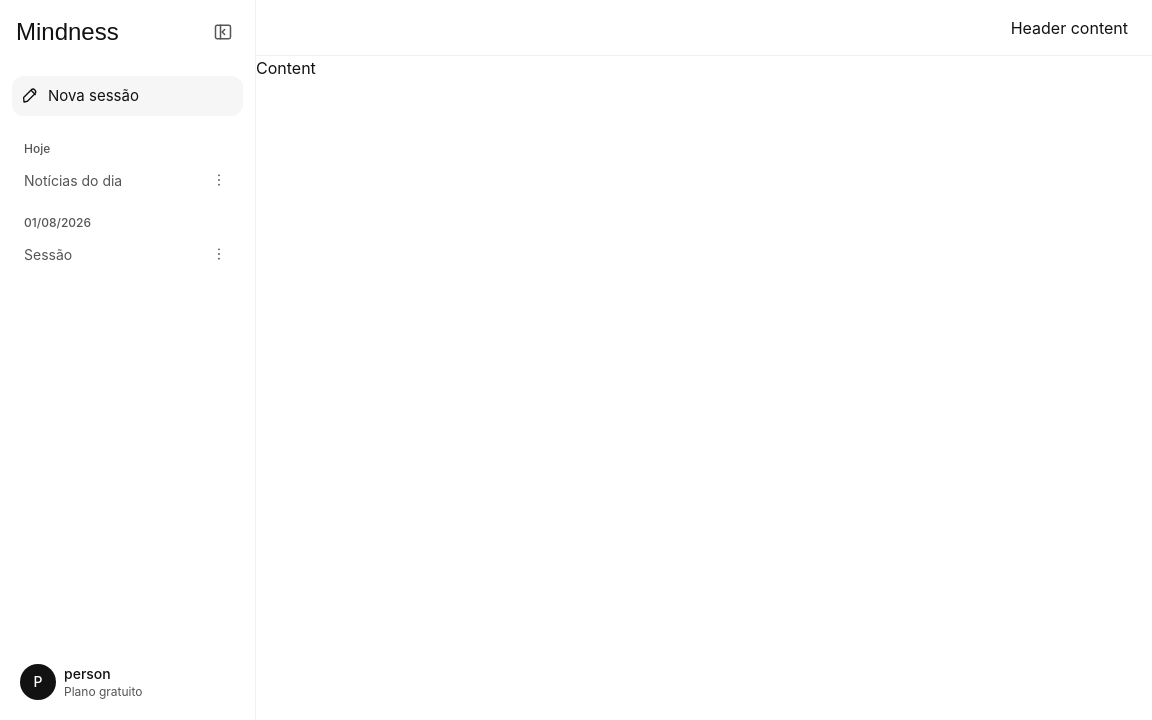
Test: AuthenticatedShell › opens the actions of a session from its own row in the sidebar
Click the button named "Ações de Notícias do dia".
click(219, 180)  # box [205,166,233,194]
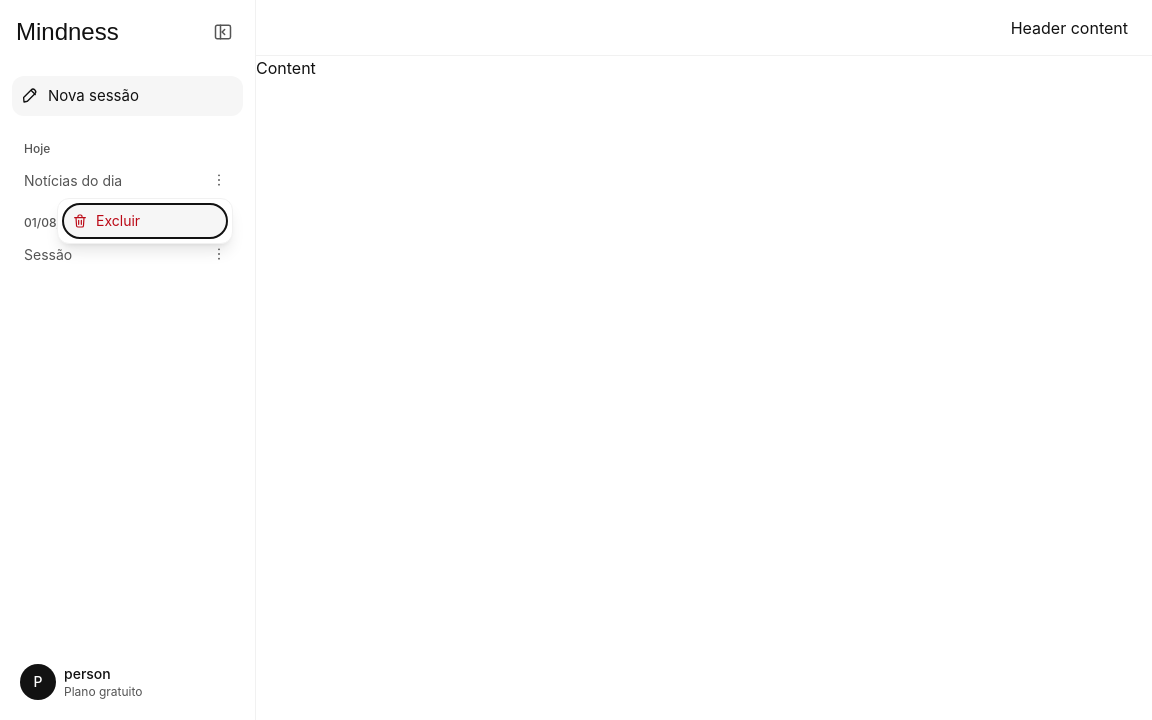
Expected: the menu item "Excluir" is shown, [62,203,228,239]
